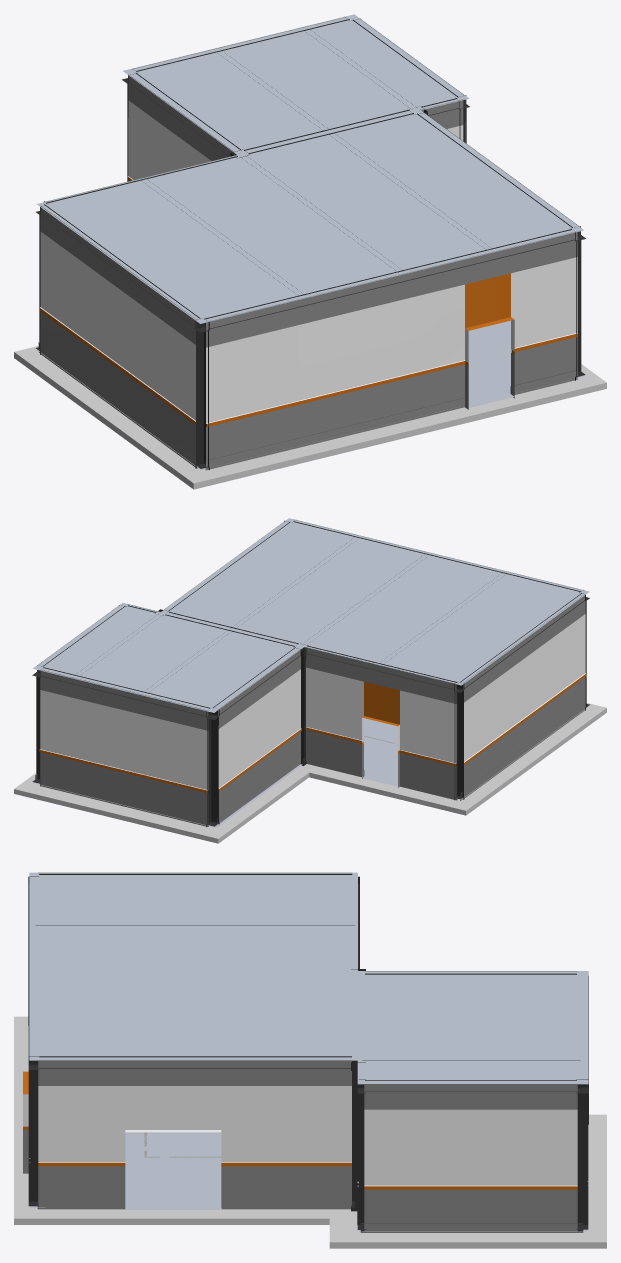
Rendered from SM_H_Building_FutureTech_ToolHouse_01_InterWall_01_ATLAS.fbx.
3 views of the same model, one above another, from view 1: azimuth 30°, elevation 25°; view 2: azimuth 150°, elevation 25°; view 3: azimuth 270°, elevation 25° (orthographic). The views are drawn at different scales.
Parts seen in each view (by area): view 1: SM_H_Building_FutureTech_ToolHouse_01_InterWall_01_ATLAS; view 2: SM_H_Building_FutureTech_ToolHouse_01_InterWall_01_ATLAS; view 3: SM_H_Building_FutureTech_ToolHouse_01_InterWall_01_ATLAS.
Boxes of the visible parts, x1=… form: SM_H_Building_FutureTech_ToolHouse_01_InterWall_01_ATLAS: x1=14, y1=14, x2=606, y2=489; SM_H_Building_FutureTech_ToolHouse_01_InterWall_01_ATLAS: x1=14, y1=518, x2=606, y2=843; SM_H_Building_FutureTech_ToolHouse_01_InterWall_01_ATLAS: x1=14, y1=872, x2=606, y2=1248.
Size of the model in its own units: 1602 by 1777 by 523.
